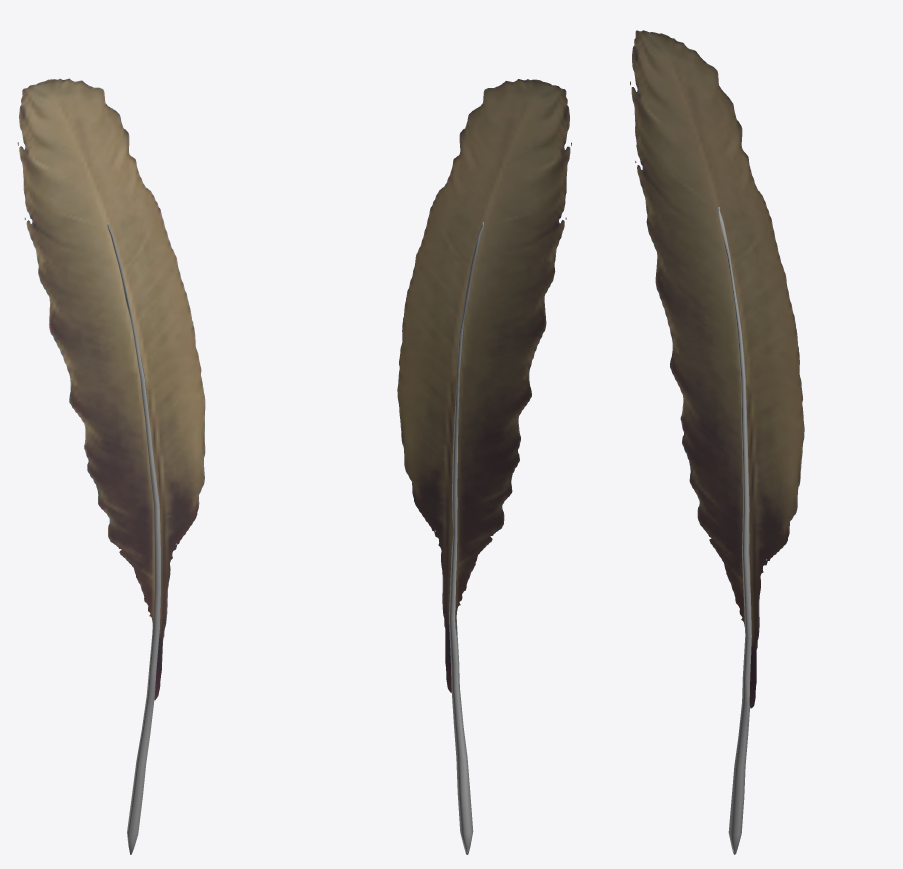
File: SM_Props_EncrierPlume.fbx
The picture shows the model from 3 angles, left to right: view 1: azimuth 30°, elevation 25°; view 2: azimuth 150°, elevation 25°; view 3: azimuth 330°, elevation 25°; orthographic projection.
Parts seen in each view (by area): view 1: Plume_low; view 2: Plume_low; view 3: Plume_low.
Part boxes in pixels (left/top/right/bottom): Plume_low: left=17, top=78, right=205, bottom=854; Plume_low: left=397, top=79, right=571, bottom=854; Plume_low: left=630, top=30, right=804, bottom=854.
Size of the model in its own units: 0.1195 by 0.354 by 0.0122.
